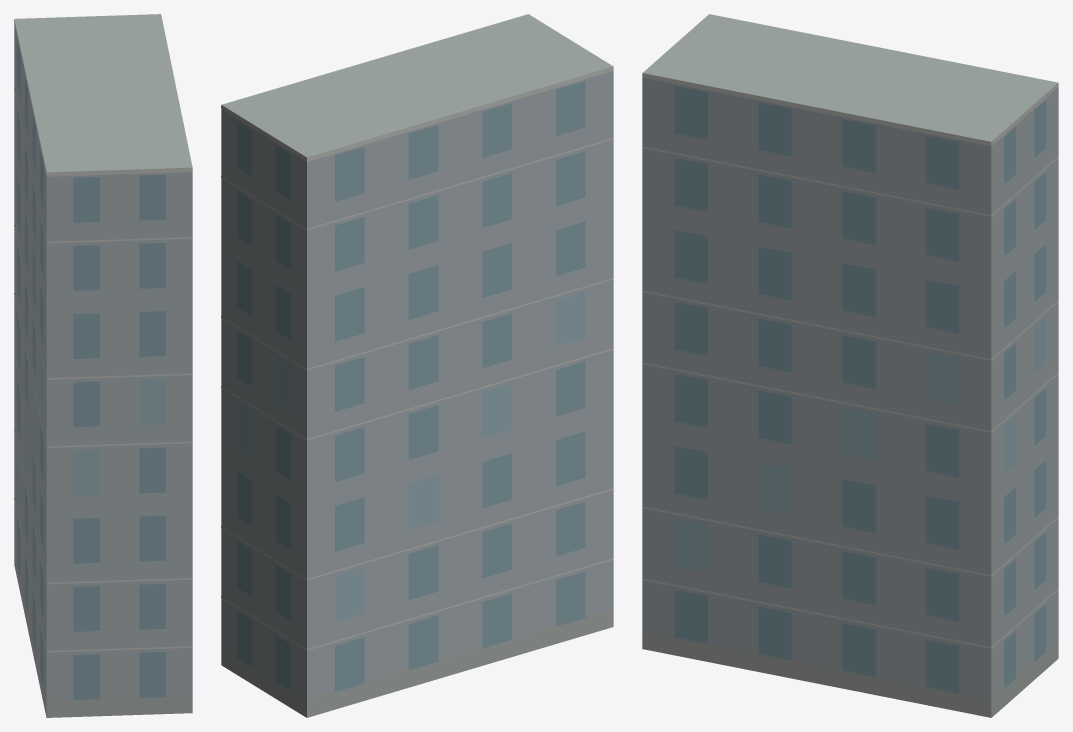
The model's file is survey-upis-32630373.glb.
The picture shows the model from 3 angles, left to right: view 1: azimuth 30°, elevation 25°; view 2: azimuth 150°, elevation 25°; view 3: azimuth 270°, elevation 25°; orthographic projection. The views are drawn at different scales.
Visible parts, largest first — view 1: survey-upis-32630373.tmp; view 2: survey-upis-32630373.tmp; view 3: survey-upis-32630373.tmp.
Boxes of the visible parts, x1,y1,x2,y2 form: survey-upis-32630373.tmp: [14, 14, 192, 717]; survey-upis-32630373.tmp: [221, 14, 613, 717]; survey-upis-32630373.tmp: [642, 14, 1058, 717].
Size of the model in its own units: 14.26 by 29.9 by 19.6.
